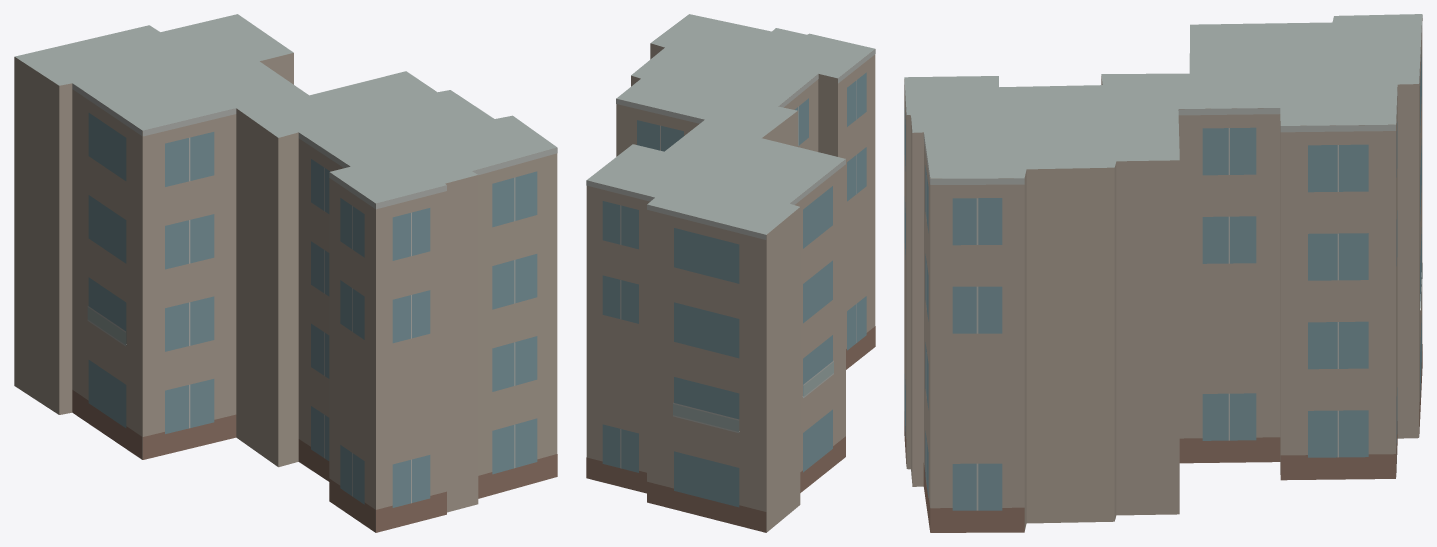
File: survey-upis-32474448.glb
3 views of the same model, side by side, from view 1: azimuth 30°, elevation 25°; view 2: azimuth 150°, elevation 25°; view 3: azimuth 270°, elevation 25° (orthographic). The views are drawn at different scales.
Visible parts, largest first — view 1: survey-upis-32474448.tmp; view 2: survey-upis-32474448.tmp; view 3: survey-upis-32474448.tmp.
Part boxes in pixels (x1,y1,x2,y2): survey-upis-32474448.tmp: [14, 14, 557, 532]; survey-upis-32474448.tmp: [586, 14, 875, 532]; survey-upis-32474448.tmp: [904, 14, 1422, 532].
Size of the model in its own units: 13.68 by 13.7 by 18.18.
